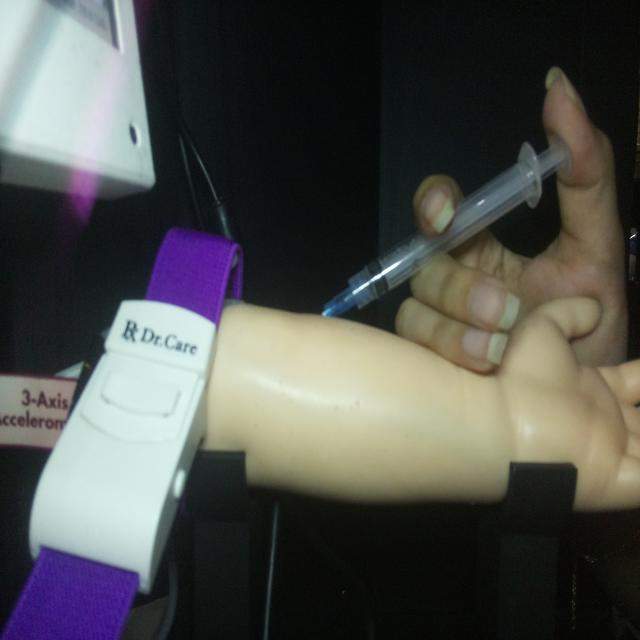26 degrees: (319, 134, 572, 321)
